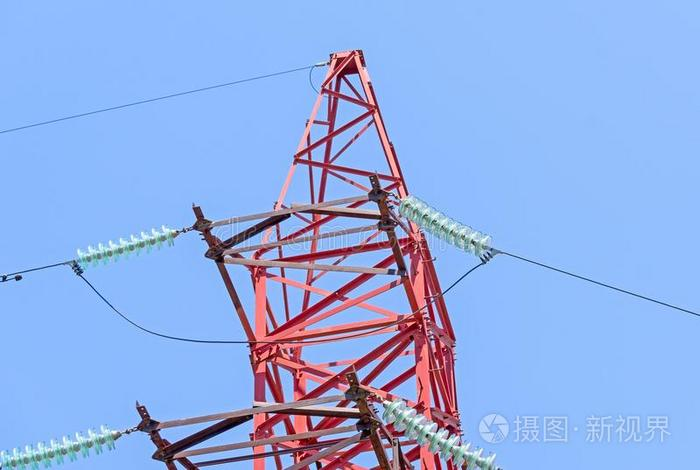insulator: (384, 399, 494, 470), (3, 424, 120, 470), (402, 195, 491, 254), (75, 226, 174, 273)
